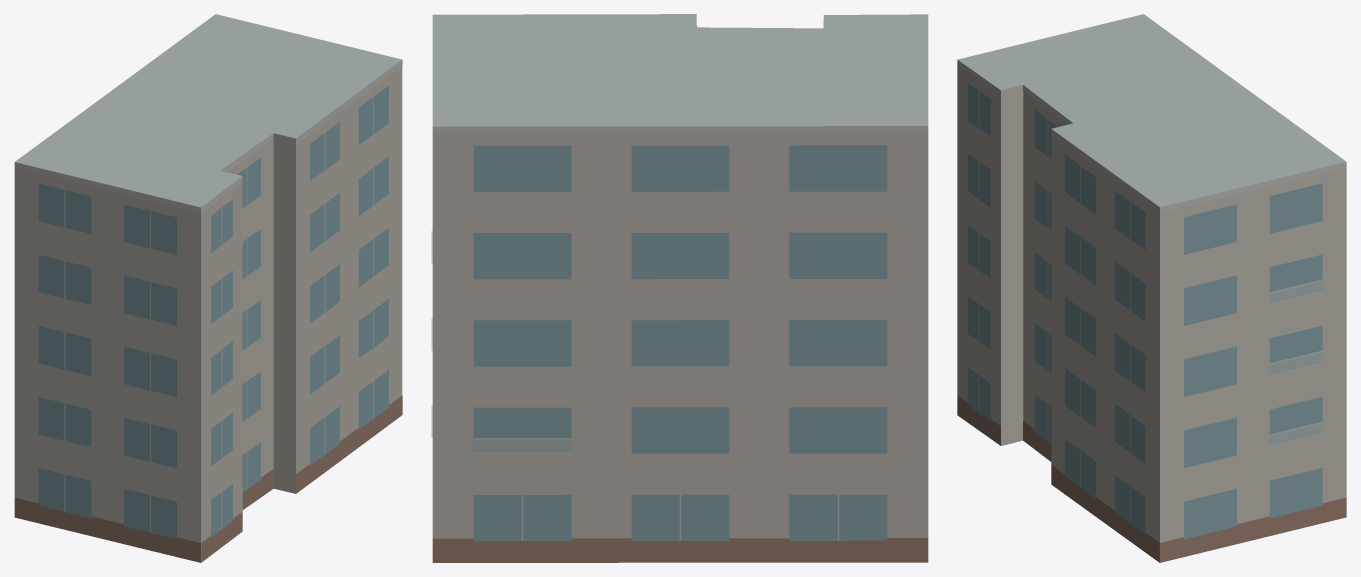
Rendered from survey-upis-32575397.glb.
3 views of the same model, side by side, from view 1: azimuth 30°, elevation 25°; view 2: azimuth 150°, elevation 25°; view 3: azimuth 270°, elevation 25° (orthographic). The views are drawn at different scales.
Visible parts, largest first — view 1: survey-upis-32575397.tmp; view 2: survey-upis-32575397.tmp; view 3: survey-upis-32575397.tmp.
Part boxes in pixels (left/top/right/bottom): survey-upis-32575397.tmp: left=14, top=14, right=402, bottom=562; survey-upis-32575397.tmp: left=431, top=14, right=928, bottom=562; survey-upis-32575397.tmp: left=957, top=14, right=1346, bottom=562.
Bounding box in the file's own units: 17.84 × 15.3 × 15.19.
